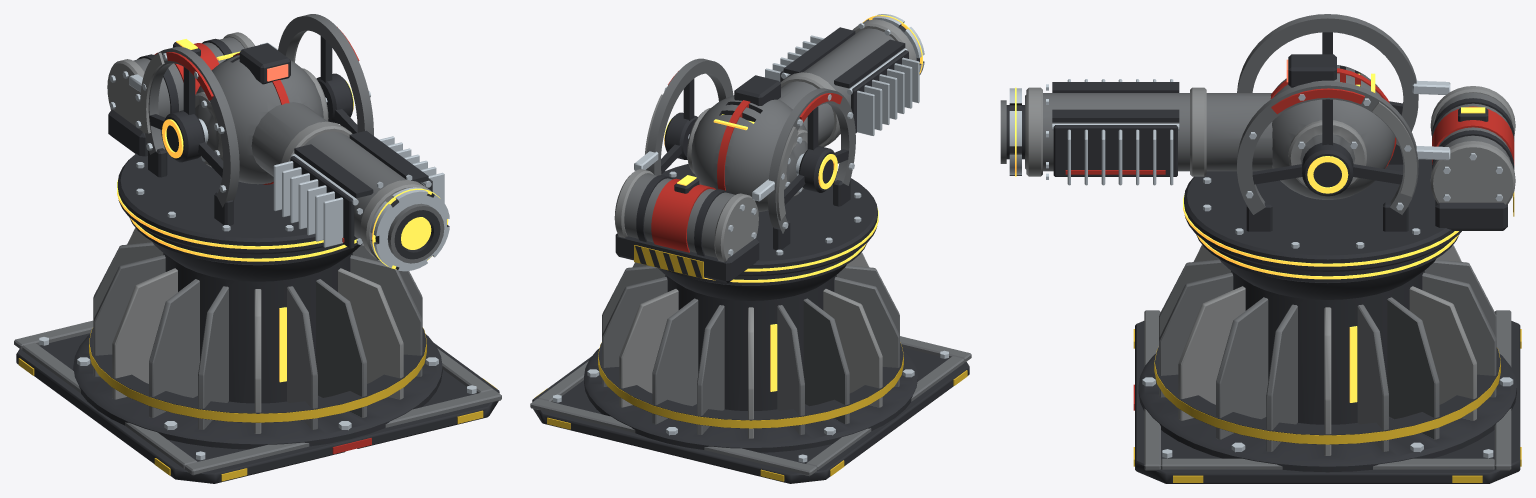
File: R4W_BeamCutter.glb
The picture shows the model from 3 angles, left to right: view 1: azimuth 30°, elevation 25°; view 2: azimuth 150°, elevation 25°; view 3: azimuth 270°, elevation 25°; orthographic projection. The views are drawn at different scales.
Parts seen in each view (by area): view 1: R4W_BeamCutter_Base, R4W_BeamCutter_Yaw, R4W_BeamCutter_Pitch, R4W_BeamCutter_FinL, R4W_BeamCutter_FocusRing, R4W_BeamCutter_FinR; view 2: R4W_BeamCutter_Base, R4W_BeamCutter_Yaw, R4W_BeamCutter_Pitch, R4W_BeamCutter_FinL, R4W_BeamCutter_FinR, R4W_BeamCutter_FocusRing; view 3: R4W_BeamCutter_Base, R4W_BeamCutter_Yaw, R4W_BeamCutter_Pitch, R4W_BeamCutter_FinR, R4W_BeamCutter_FocusRing.
Boxes of the visible parts, box(x1,y1,x2,y2) form: R4W_BeamCutter_Base: box(14, 217, 501, 483); R4W_BeamCutter_Yaw: box(107, 14, 373, 254); R4W_BeamCutter_Pitch: box(195, 43, 444, 263); R4W_BeamCutter_FinL: box(273, 154, 358, 248); R4W_BeamCutter_FocusRing: box(370, 187, 449, 271); R4W_BeamCutter_FinR: box(379, 136, 444, 202); R4W_BeamCutter_Base: box(530, 242, 971, 483); R4W_BeamCutter_Yaw: box(614, 58, 878, 283); R4W_BeamCutter_Pitch: box(687, 19, 916, 212); R4W_BeamCutter_FinL: box(847, 48, 919, 135); R4W_BeamCutter_FinR: box(765, 35, 824, 82); R4W_BeamCutter_FocusRing: box(862, 14, 924, 74); R4W_BeamCutter_Base: box(1133, 234, 1521, 483); R4W_BeamCutter_Yaw: box(1183, 14, 1515, 271); R4W_BeamCutter_Pitch: box(1000, 54, 1396, 199); R4W_BeamCutter_FinR: box(1052, 123, 1179, 185); R4W_BeamCutter_FocusRing: box(1009, 87, 1021, 176).
Bounding box in the file's own units: 0.5126 × 0.515 × 0.689.
